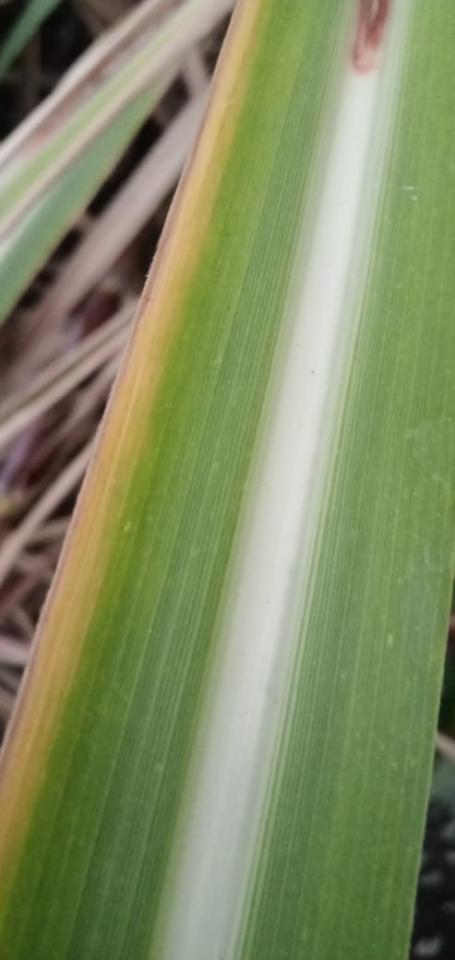RedRot: (352, 0, 392, 75)
Yellow: (0, 0, 277, 908)
